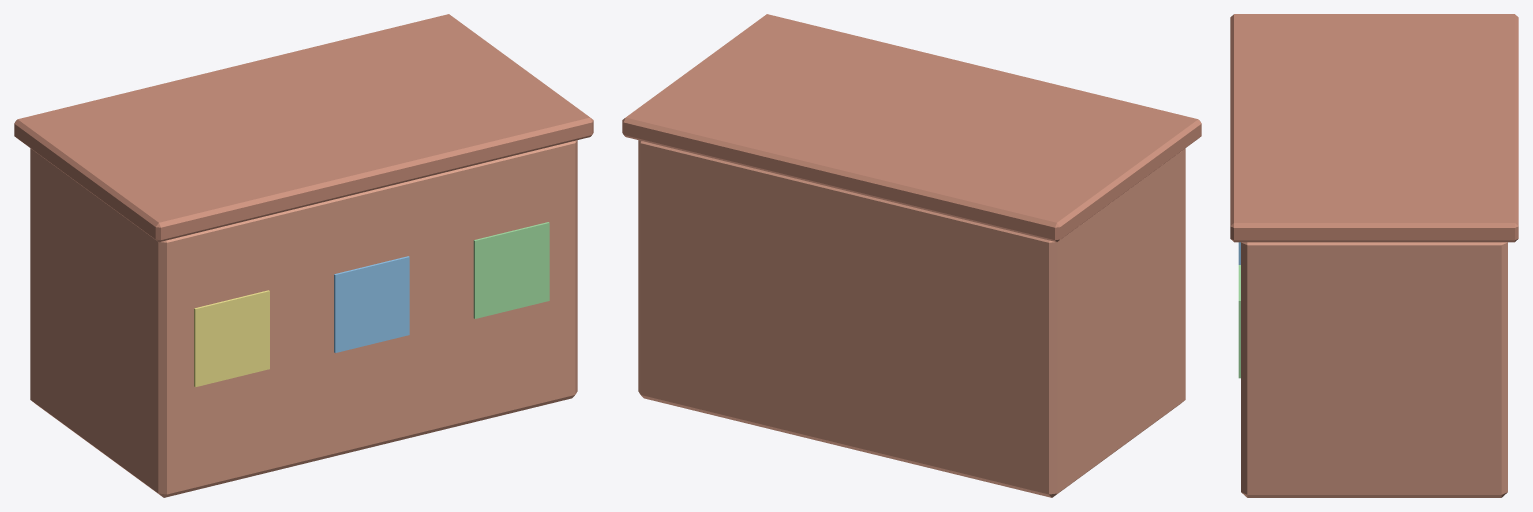
File: toy_box.glb
3 renders of one model, left to right at view 1: azimuth 30°, elevation 25°; view 2: azimuth 150°, elevation 25°; view 3: azimuth 270°, elevation 25°, orthographic.
Visible parts, largest first — view 1: toy_box; view 2: toy_box; view 3: toy_box.
Boxes of the visible parts, box(x1,y1,x2,y2) form: toy_box: box(14, 14, 593, 497); toy_box: box(622, 14, 1201, 497); toy_box: box(1230, 14, 1518, 497).
Bounding box in the file's own units: 0.94 × 0.58 × 0.54.
